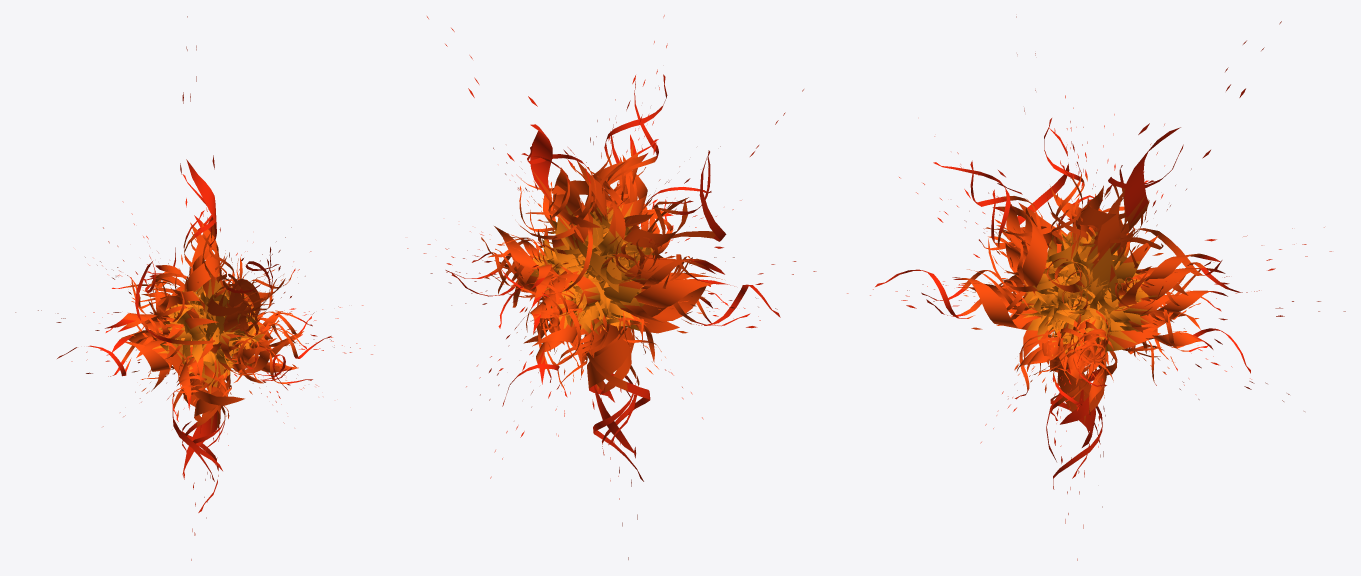
Rendered from fireball_12.obj.
The picture shows the model from 3 angles, left to right: view 1: azimuth 30°, elevation 25°; view 2: azimuth 150°, elevation 25°; view 3: azimuth 270°, elevation 25°; orthographic projection. The views are drawn at different scales.
Visible parts, largest first — view 1: Fireball; view 2: Fireball; view 3: Fireball.
Part boxes in pixels (x1,y1,x2,y2): Fireball: (15,16,374,560); Fireball: (407,15,816,559); Fireball: (847,16,1345,560).
Bounding box in the file's own units: 1.73 × 2.28 × 1.76.
